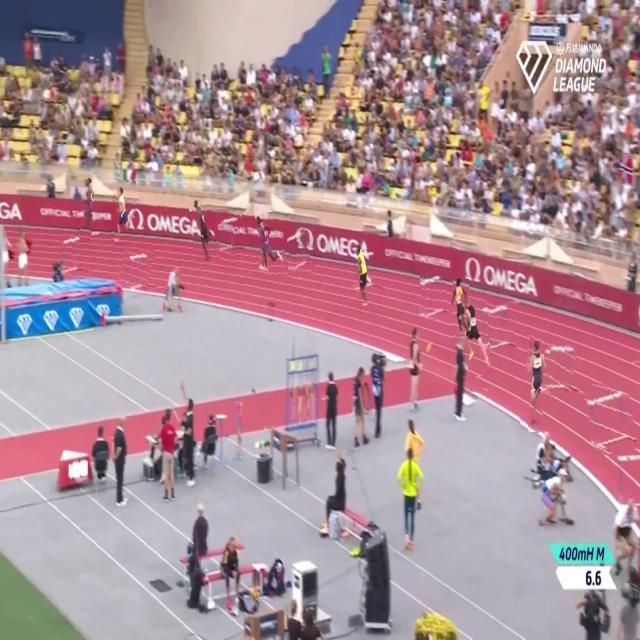athlete: (520, 331, 549, 433), (460, 296, 490, 378), (257, 212, 287, 281), (190, 197, 218, 265), (112, 180, 135, 249), (355, 240, 376, 314), (81, 174, 101, 240), (453, 280, 469, 350)
hurdle: (585, 380, 636, 456), (537, 342, 577, 391), (480, 300, 514, 351), (120, 244, 154, 289), (421, 269, 448, 320), (287, 224, 311, 278), (217, 211, 241, 263), (60, 233, 82, 277)
